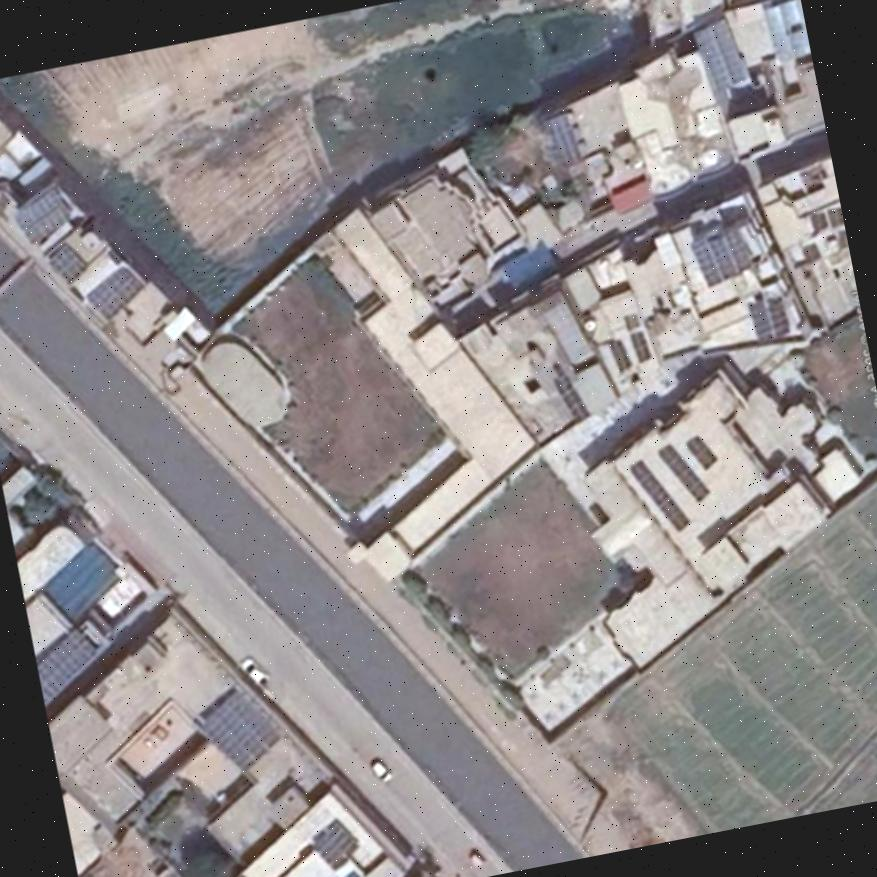Solarpanel: (201, 692, 278, 772), (36, 628, 95, 703), (630, 460, 686, 531), (693, 18, 748, 90), (691, 230, 750, 285), (12, 187, 64, 244), (86, 266, 144, 317), (657, 444, 705, 502), (313, 823, 358, 869), (545, 113, 582, 165), (551, 375, 589, 421), (747, 296, 787, 339), (47, 242, 84, 281), (689, 435, 715, 470), (608, 342, 629, 371), (626, 332, 648, 359)
